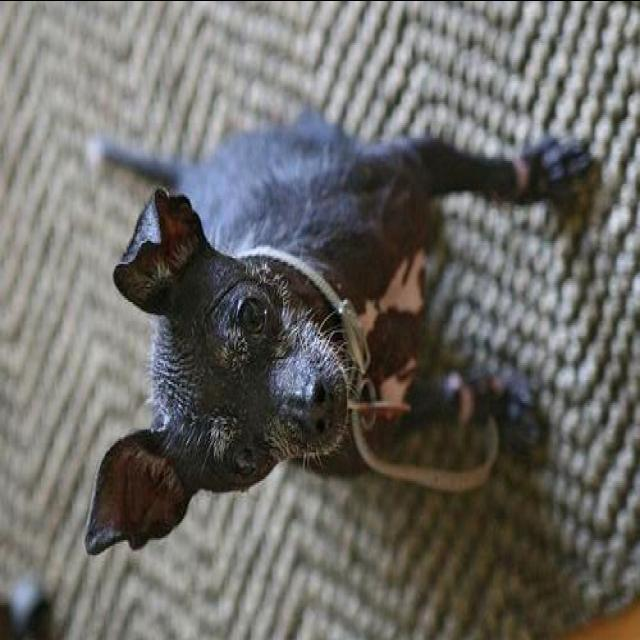chihuahua: (80, 118, 592, 554)
